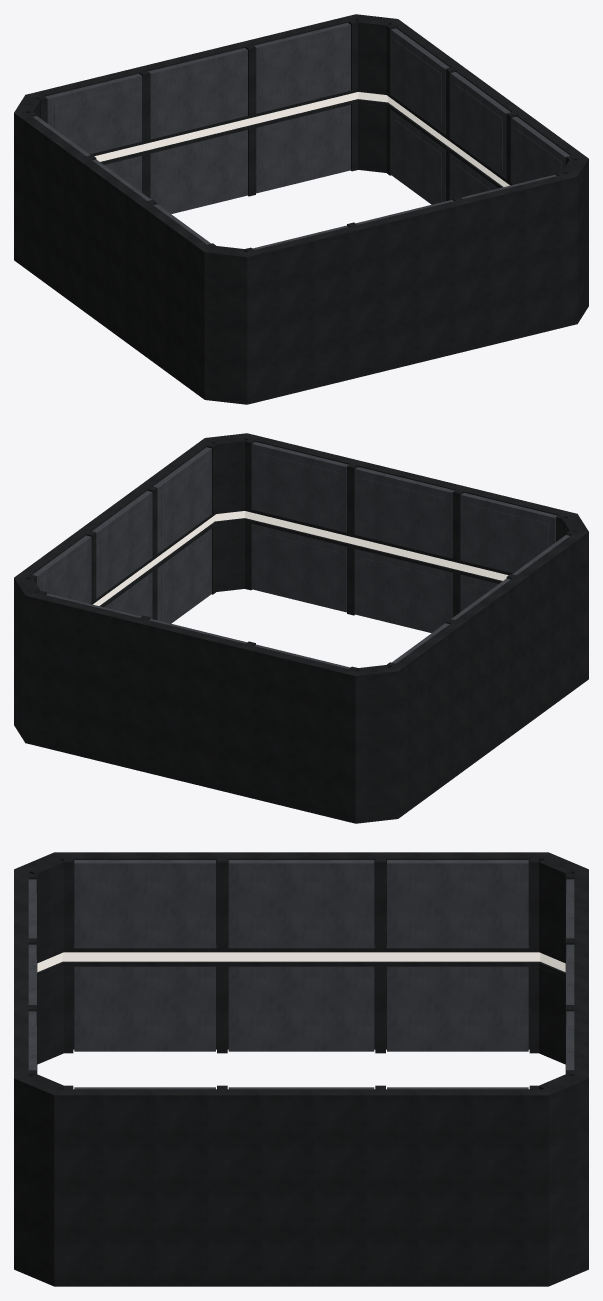
Rendered from StartShaftUnit.gltf.
The picture shows the model from 3 angles, top to bottom: view 1: azimuth 30°, elevation 25°; view 2: azimuth 150°, elevation 25°; view 3: azimuth 270°, elevation 25°; orthographic projection. The views are drawn at different scales.
Visible parts, largest first — view 1: StartShaftUnit; view 2: StartShaftUnit; view 3: StartShaftUnit.
Boxes of the visible parts, left/top/right/bottom form: StartShaftUnit: left=14, top=14, right=588, bottom=404; StartShaftUnit: left=14, top=433, right=588, bottom=823; StartShaftUnit: left=14, top=852, right=588, bottom=1286.
Bounding box in the file's own units: 21.8 × 8 × 21.8.
Materials: 3 (3 with a texture image).
